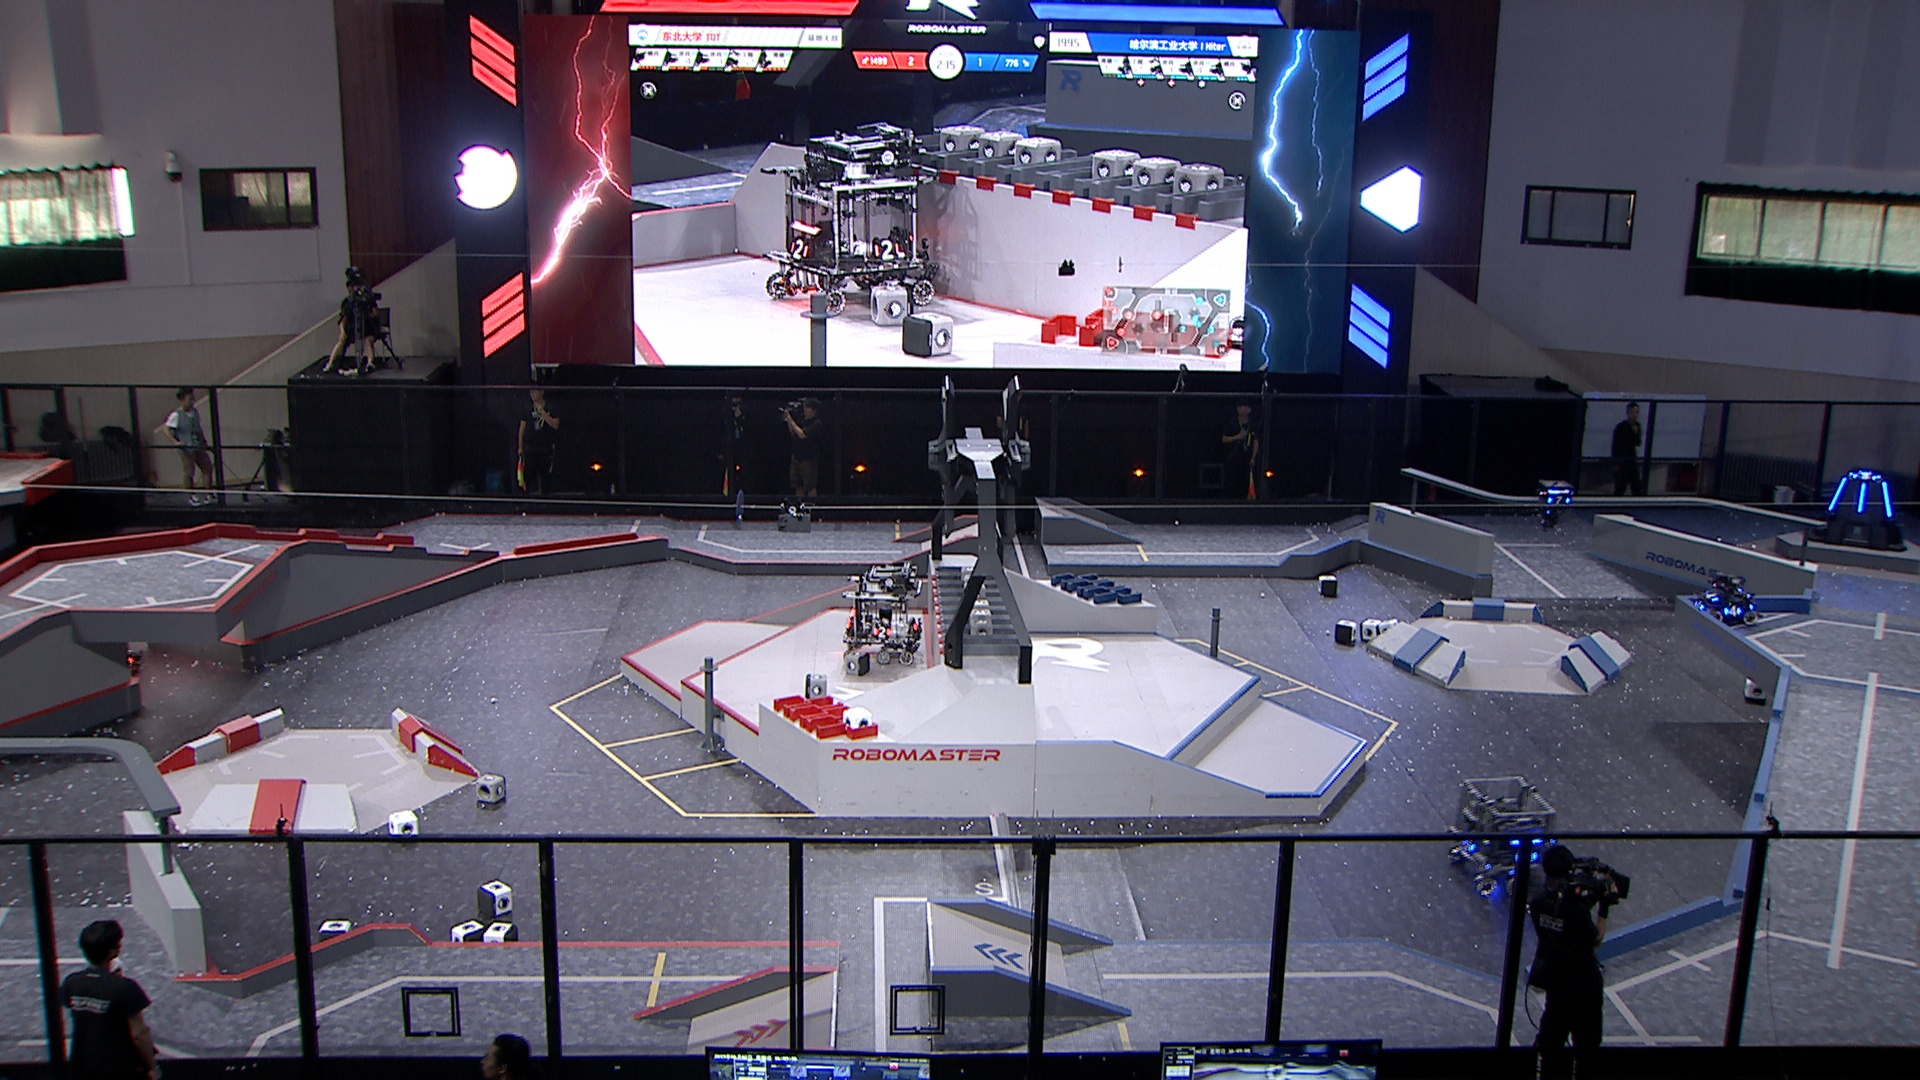armor: (1826, 475, 1847, 514), (1882, 479, 1894, 520), (1858, 481, 1870, 516), (1721, 603, 1745, 618), (1545, 495, 1571, 509), (1851, 471, 1880, 483), (1457, 837, 1476, 855), (872, 624, 891, 640), (1702, 589, 1720, 604), (1693, 599, 1705, 611)
base: (1803, 469, 1909, 553)
car: (1447, 773, 1557, 897), (839, 560, 923, 665), (1689, 571, 1759, 632)
ignore: (760, 119, 944, 314)
watcher: (1532, 479, 1572, 527)
